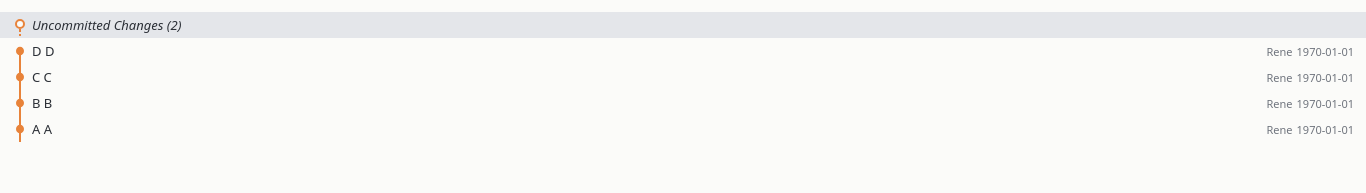
Test case: CommitGraph › keeps Compare these commits enabled while an operation is pending
This screenshot has width=1366, height=193.
Click the option "C C Rene 1970-01-01". click: (1325, 77)
box: [0,64,1365,90]
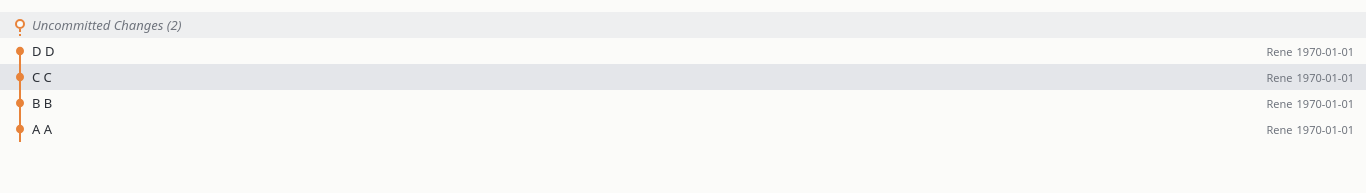
Click the option "B B Rene 1970-01-01". click: (1325, 103)
box: [0,90,1365,116]
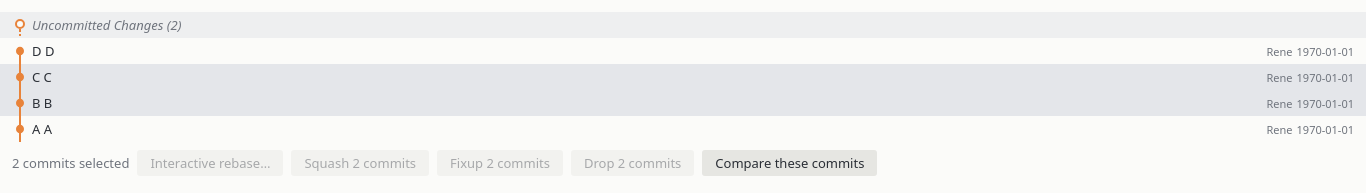
Now the button "Compare these commits" is enabled, box [702,150,877,176]
